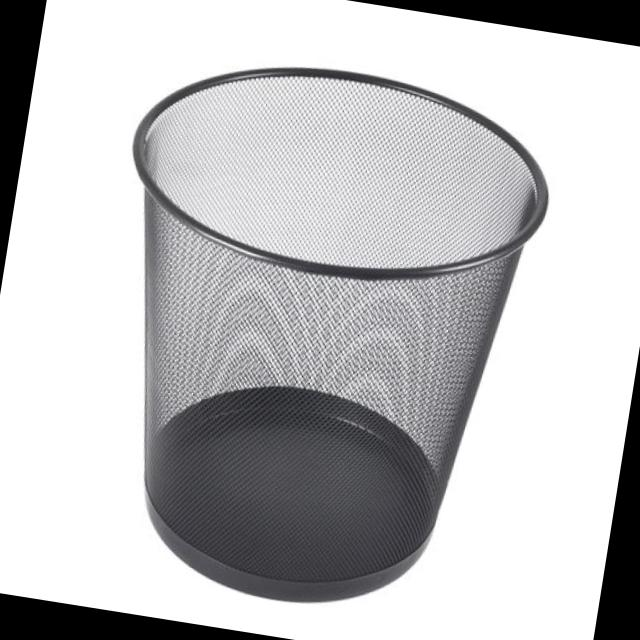dustbin: (61, 32, 570, 636)
